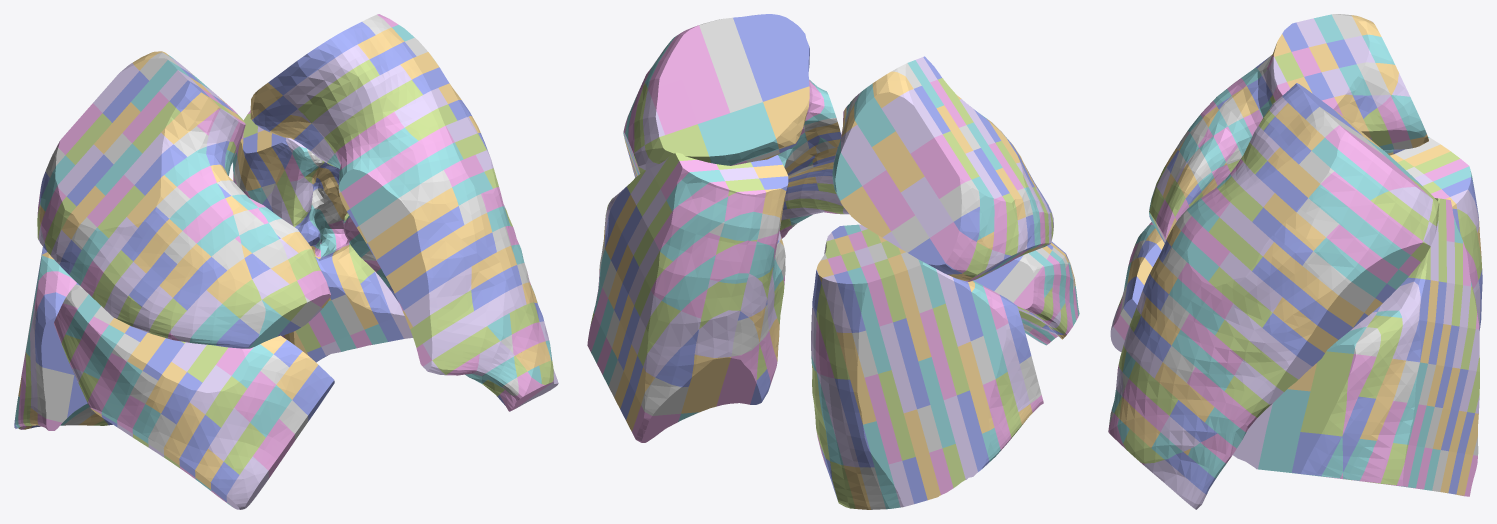
File: lung-male-medium.glb
3 renders of one model, left to right at view 1: azimuth 30°, elevation 25°; view 2: azimuth 150°, elevation 25°; view 3: azimuth 270°, elevation 25°, orthographic. The views are drawn at different scales.
Visible parts, largest first — view 1: RLL-1A4, RLL-1A3, LUL-16B1, LUL-17B1, LUL-15B1, LUL-14B1, LUL-8B1, LUL-10A1, LUL-13B1, LUL-11A1, LUL-9B1, LUL-12B1 (+67 smaller); view 2: LUL-1C3, LUL-1C4, LUL-1B4, LUL-1B3, LUL-1B2, LUL-1B5, LUL-1C2, LUL-1A3, LUL-1A4, LUL-1A2, LLL-1B4, LLL-1A6 (+116 smaller); view 3: LLL-14B6, LLL-14B7, LLL-14C7, LLL-14B5, LLL-14C6, LLL-12A3, LUL-1A5, LLL-13A4, LUL-7A6, LUL-2A5, LUL-8A6, LUL-6A6 (+139 smaller).
Part boxes in pixels (x1,y1,x2,y2): RLL-1A4: (36, 362, 74, 422); RLL-1A3: (35, 312, 74, 374); LUL-16B1: (413, 295, 473, 343); LUL-17B1: (423, 311, 478, 359); LUL-15B1: (404, 280, 462, 326); LUL-14B1: (395, 264, 448, 310); LUL-8B1: (341, 162, 393, 208); LUL-10A1: (400, 170, 451, 214); LUL-13B1: (386, 248, 437, 293); LUL-11A1: (408, 187, 458, 231); LUL-9B1: (350, 180, 399, 225); LUL-12B1: (376, 232, 427, 276); LUL-1C3: (730, 102, 778, 160); LUL-1C4: (698, 113, 746, 165); LUL-1B4: (682, 68, 730, 123); LUL-1B3: (715, 57, 762, 112); LUL-1B2: (747, 46, 795, 101); LUL-1B5: (649, 80, 697, 134); LUL-1C2: (763, 91, 805, 149); LUL-1A3: (699, 17, 746, 68); LUL-1A4: (669, 25, 714, 79); LUL-1A2: (733, 14, 779, 57); LLL-1B4: (694, 320, 737, 357); LLL-1A6: (641, 377, 688, 415); LLL-14B6: (1300, 391, 1346, 436); LLL-14B7: (1292, 432, 1341, 475); LLL-14C7: (1258, 428, 1300, 473); LLL-14B5: (1310, 351, 1353, 394); LLL-14C6: (1266, 389, 1310, 431); LLL-12A3: (1377, 281, 1420, 319); LUL-1A5: (1351, 150, 1399, 190); LLL-13A4: (1367, 315, 1402, 358); LUL-7A6: (1302, 251, 1351, 296); LUL-2A5: (1334, 160, 1388, 200); LUL-8A6: (1292, 266, 1340, 311); LUL-6A6: (1314, 237, 1360, 281).
Bounding box in the file's own units: 0.2572 × 0.2254 × 0.1897.
